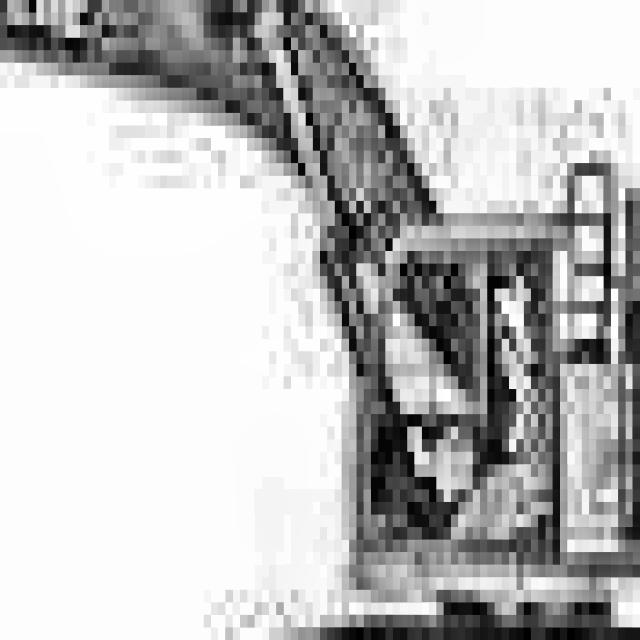excavator: (232, 175, 640, 640)
